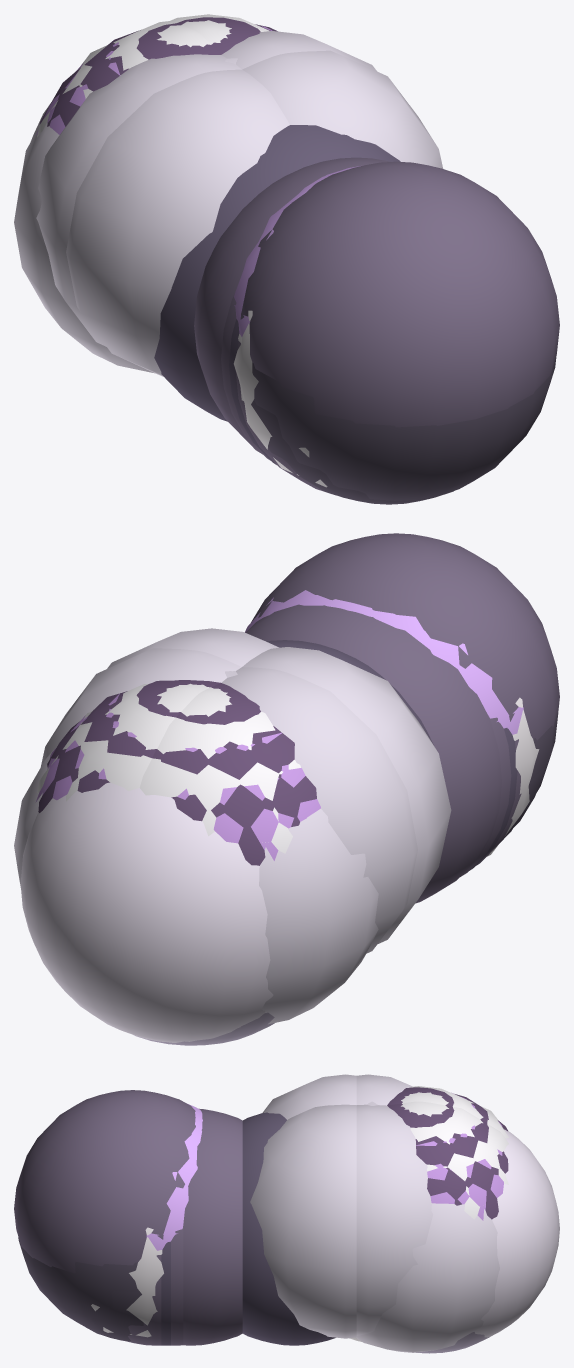
Rendered from GothHero.fbx.
The picture shows the model from 3 angles, top to bottom: view 1: azimuth 30°, elevation 25°; view 2: azimuth 150°, elevation 25°; view 3: azimuth 270°, elevation 25°; orthographic projection. The views are drawn at different scales.
Parts seen in each view (by area): view 1: Boot toe, Harness rivet, Platform boot, Harness rivet.002, Tailored pelvis, Harness rivet.001, Rounded shoulder, Earring hoop, Pupil, Harness rivet.003, Eye glint, Knee seam (+7 smaller); view 2: Hair crown, Boot toe, Rounded shoulder, Harness rivet.001, Earring hoop, Harness rivet, Pupil, Eye glint, Eye glint.001, Harness rivet.003, Pupil.001, Amethyst focus (+9 smaller); view 3: Boot toe, Harness rivet.002, Harness rivet.003, Rounded shoulder, Earring hoop.001, Hair crown, Tailored pelvis, Platform boot, Pupil.001, Eye glint.001, Harness rivet, Amethyst focus (+12 smaller).
Part boxes in pixels (<box>): Boot toe: <box>240,161,559,427</box>; Harness rivet: <box>66,69,289,376</box>; Platform boot: <box>252,355,556,500</box>; Harness rivet.002: <box>242,50,443,168</box>; Tailored pelvis: <box>154,125,400,421</box>; Harness rivet.001: <box>36,54,241,346</box>; Rounded shoulder: <box>194,157,390,454</box>; Earring hoop: <box>14,123,154,373</box>; Pupil: <box>39,23,220,126</box>; Harness rivet.003: <box>221,31,376,71</box>; Eye glint: <box>37,21,210,137</box>; Knee seam: <box>251,399,453,504</box>; Hair crown: <box>20,782,273,1042</box>; Boot toe: <box>251,533,559,740</box>; Rounded shoulder: <box>245,604,501,903</box>; Harness rivet.001: <box>221,667,417,953</box>; Earring hoop: <box>259,808,378,1024</box>; Harness rivet: <box>242,647,451,943</box>; Pupil: <box>152,683,316,865</box>; Eye glint: <box>139,687,300,853</box>; Eye glint.001: <box>37,683,210,801</box>; Harness rivet.003: <box>41,648,241,766</box>; Pupil.001: <box>38,680,220,812</box>; Amethyst focus: <box>245,590,523,734</box>; Boot toe: <box>14,1090,195,1273</box>; Harness rivet.002: <box>250,1104,356,1338</box>; Harness rivet.003: <box>356,1104,432,1335</box>; Rounded shoulder: <box>183,1108,242,1345</box>; Earring hoop.001: <box>356,1203,499,1352</box>; Hair crown: <box>474,1129,559,1337</box>; Tailored pelvis: <box>242,1112,335,1345</box>; Platform boot: <box>18,1237,137,1328</box>; Pupil.001: <box>387,1103,508,1219</box>; Eye glint.001: <box>401,1101,508,1219</box>; Harness rivet: <box>262,1074,356,1119</box>; Amethyst focus: <box>146,1104,202,1250</box>.
Size of the model in its own units: 2.53 by 2.27 by 4.59.
